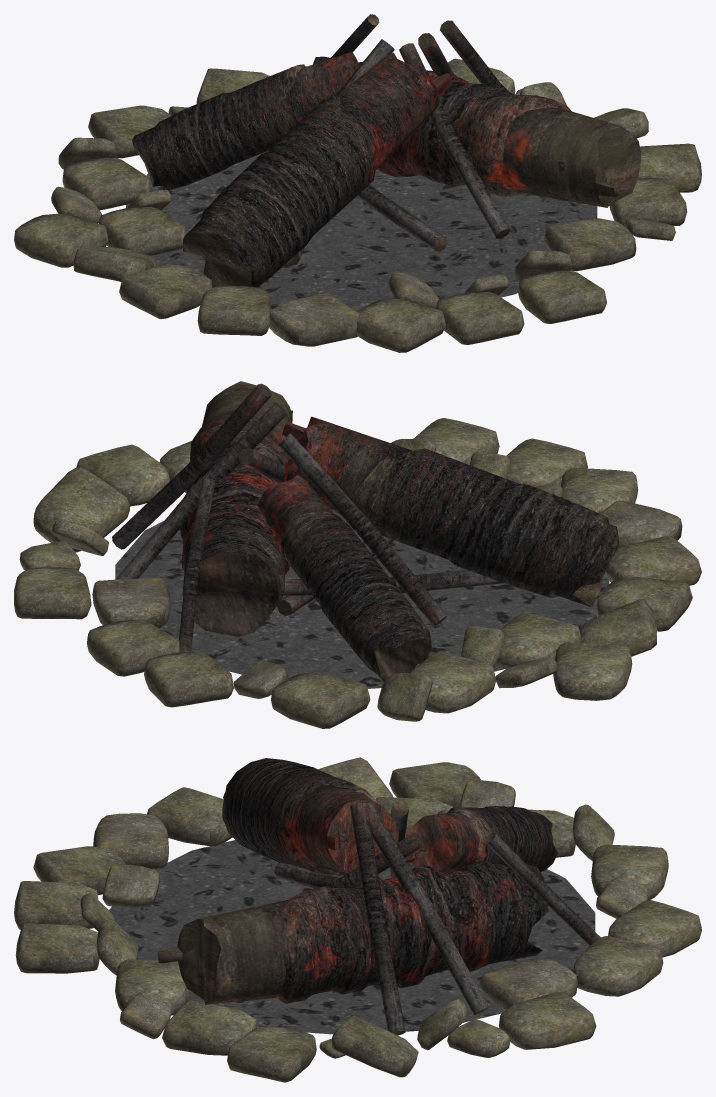
The model's file is camp_fire.glb.
3 views of the same model, one above another, from view 1: azimuth 30°, elevation 25°; view 2: azimuth 150°, elevation 25°; view 3: azimuth 270°, elevation 25° (orthographic). The views are drawn at different scales.
Visible parts, largest first — view 1: Fire_Wood_2_low001; view 2: Fire_Wood_2_low001; view 3: Fire_Wood_2_low001.
Part boxes in pixels (x1=…): Fire_Wood_2_low001: x1=14, y1=14, x2=701, y2=352; Fire_Wood_2_low001: x1=14, y1=381, x2=701, y2=728; Fire_Wood_2_low001: x1=14, y1=757, x2=701, y2=1082.
Size of the model in its own units: 186 by 53.84 by 178.
1 material, 1 textured.
